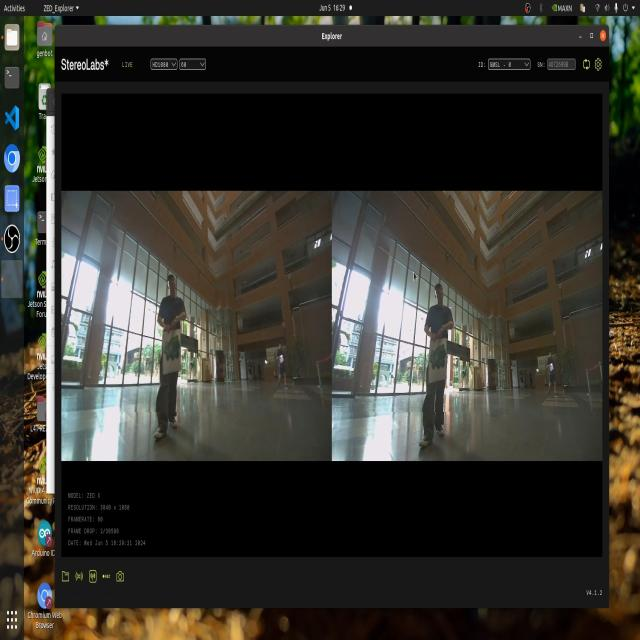green: (426, 342, 458, 380), (162, 329, 189, 363)
